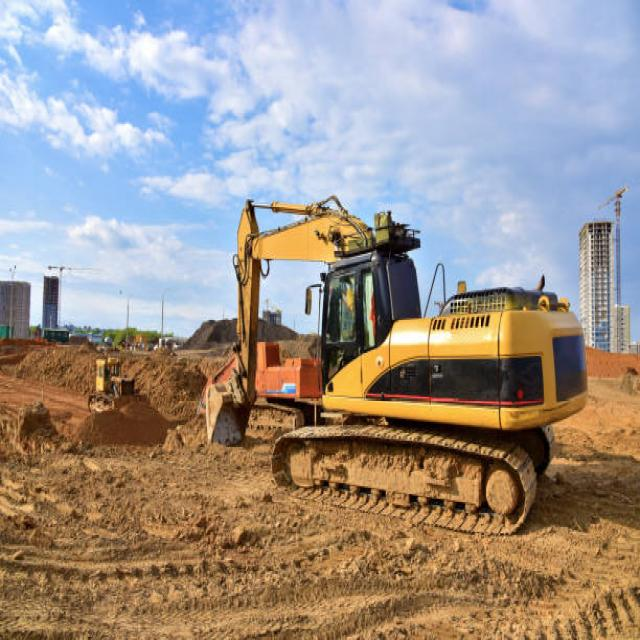Excavator: (202, 194, 590, 536)
